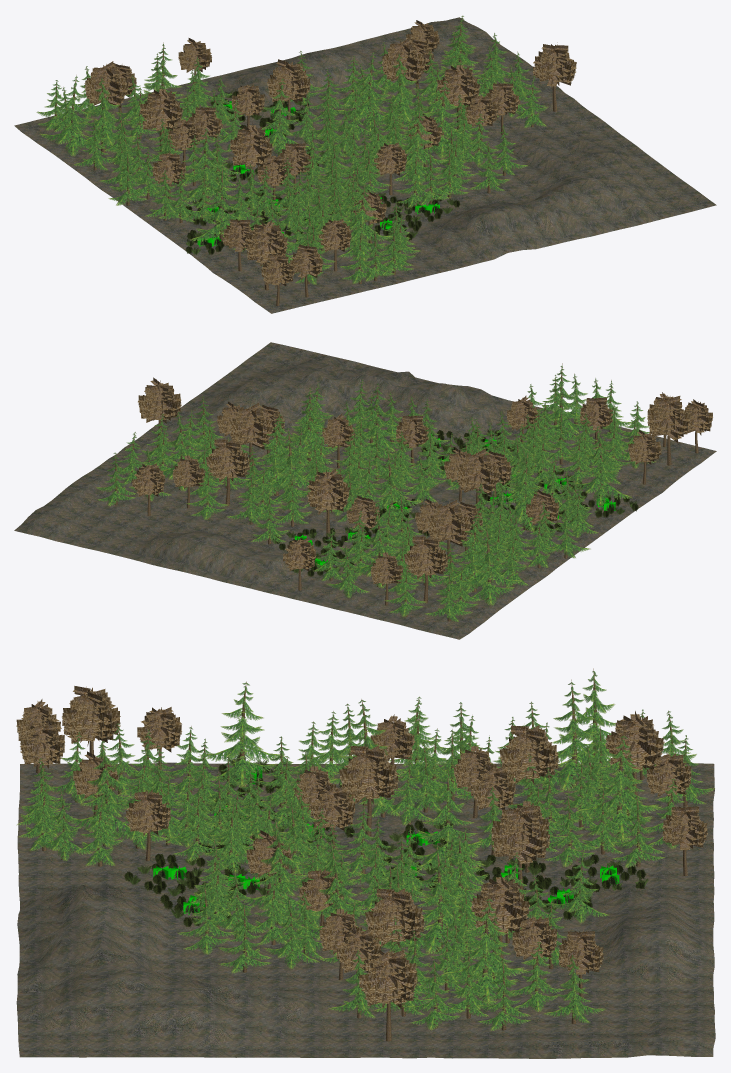
The model's file is Forest.glb.
3 renders of one model, top to bottom at view 1: azimuth 30°, elevation 25°; view 2: azimuth 150°, elevation 25°; view 3: azimuth 270°, elevation 25°, orthographic. The views are drawn at different scales.
Visible parts, largest first — view 1: Plane_Plane.003, Green_sosna.012_Plane.039, Green_elka.064_Plane.079, Green_sosna.003_Plane.026, Green_sosna.002_Plane.025, Green_sosna.018_Plane.093, Green_sosna.015_Plane.090, Green_sosna.010_Plane.033, Green_sosna.024_Plane.121, Green_sosna.007_Plane.030, Green_elka.080_Plane.101, Green_elka.098_Plane.125 (+62 smaller); view 2: Plane_Plane.003, Green_elka.064_Plane.079, Green_elka.111_Plane.139, Green_sosna.024_Plane.121, Green_sosna.003_Plane.026, Green_sosna.002_Plane.025, Green_sosna.015_Plane.090, Green_sosna.010_Plane.033, Green_sosna.007_Plane.030, Green_sosna.018_Plane.093, Green_sosna.012_Plane.039, Green_elka.001_Plane.001 (+57 smaller); view 3: Plane_Plane.003, Green_elka.111_Plane.139, Green_sosna.003_Plane.026, Green_sosna.024_Plane.121, Green_sosna.012_Plane.039, Green_sosna.002_Plane.025, Green_sosna.007_Plane.030, Green_sosna.018_Plane.093, Green_elka.072_Plane.087, Green_elka.023_Plane.036, Green_sosna.015_Plane.090, Green_sosna.010_Plane.033 (+90 smaller).
Part boxes in pixels (x1,y1,x2,y2): Plane_Plane.003: (14,17,716,313); Green_sosna.012_Plane.039: (533,44,576,89); Green_elka.064_Plane.079: (39,76,101,156); Green_sosna.003_Plane.026: (267,59,310,104); Green_sosna.002_Plane.025: (229,122,273,167); Green_sosna.018_Plane.093: (139,86,183,134); Green_sosna.015_Plane.090: (84,61,127,107); Green_sosna.010_Plane.033: (382,37,425,83); Green_sosna.024_Plane.121: (245,220,287,266); Green_sosna.007_Plane.030: (437,63,480,109); Green_elka.080_Plane.101: (338,183,392,261); Green_elka.098_Plane.125: (182,128,231,202); Plane_Plane.003: (14,342,716,639); Green_elka.064_Plane.079: (456,525,521,605); Green_elka.111_Plane.139: (571,426,632,505); Green_sosna.024_Plane.121: (647,396,690,442); Green_sosna.003_Plane.026: (306,468,349,514); Green_sosna.002_Plane.025: (456,448,499,495); Green_sosna.015_Plane.090: (404,535,447,579); Green_sosna.010_Plane.033: (206,438,249,481); Green_sosna.007_Plane.030: (229,403,272,449); Green_sosna.018_Plane.093: (427,500,470,546); Green_sosna.012_Plane.039: (138,377,181,423); Green_elka.001_Plane.001: (372,448,422,526); Plane_Plane.003: (16,762,715,1058); Green_elka.111_Plane.139: (198,682,286,788); Green_sosna.003_Plane.026: (491,805,549,868); Green_sosna.024_Plane.121: (62,686,120,746); Green_sosna.012_Plane.039: (358,949,417,1008); Green_sosna.002_Plane.025: (339,745,398,803); Green_sosna.007_Plane.030: (365,888,424,946); Green_sosna.018_Plane.093: (499,725,558,783); Green_elka.072_Plane.087: (576,736,662,841); Green_elka.023_Plane.036: (441,899,528,1004); Green_sosna.015_Plane.090: (605,711,664,770); Green_sosna.010_Plane.033: (470,874,530,933).
Bounding box in the file's own units: 16.73 × 2.75 × 16.22.
8 materials, 8 textured.
